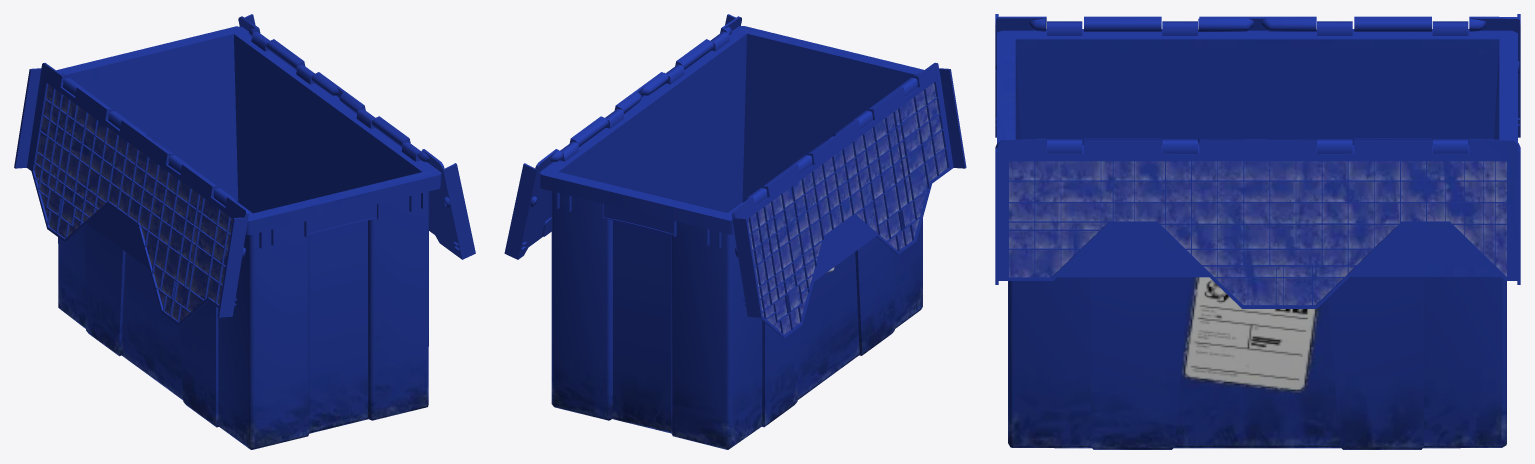
The model's file is industrial_pastic_container.glb.
The picture shows the model from 3 angles, left to right: view 1: azimuth 30°, elevation 25°; view 2: azimuth 150°, elevation 25°; view 3: azimuth 270°, elevation 25°; orthographic projection. The views are drawn at different scales.
Visible parts, largest first — view 1: industrial_pastic_container; view 2: industrial_pastic_container; view 3: industrial_pastic_container.
Boxes of the visible parts, x1=… form: industrial_pastic_container: x1=14, y1=14, x2=475, y2=449; industrial_pastic_container: x1=504, y1=14, x2=966, y2=449; industrial_pastic_container: x1=995, y1=14, x2=1520, y2=449.
Size of the model in its own units: 0.4572 by 0.4188 by 0.6314.
1 material, 1 textured.
